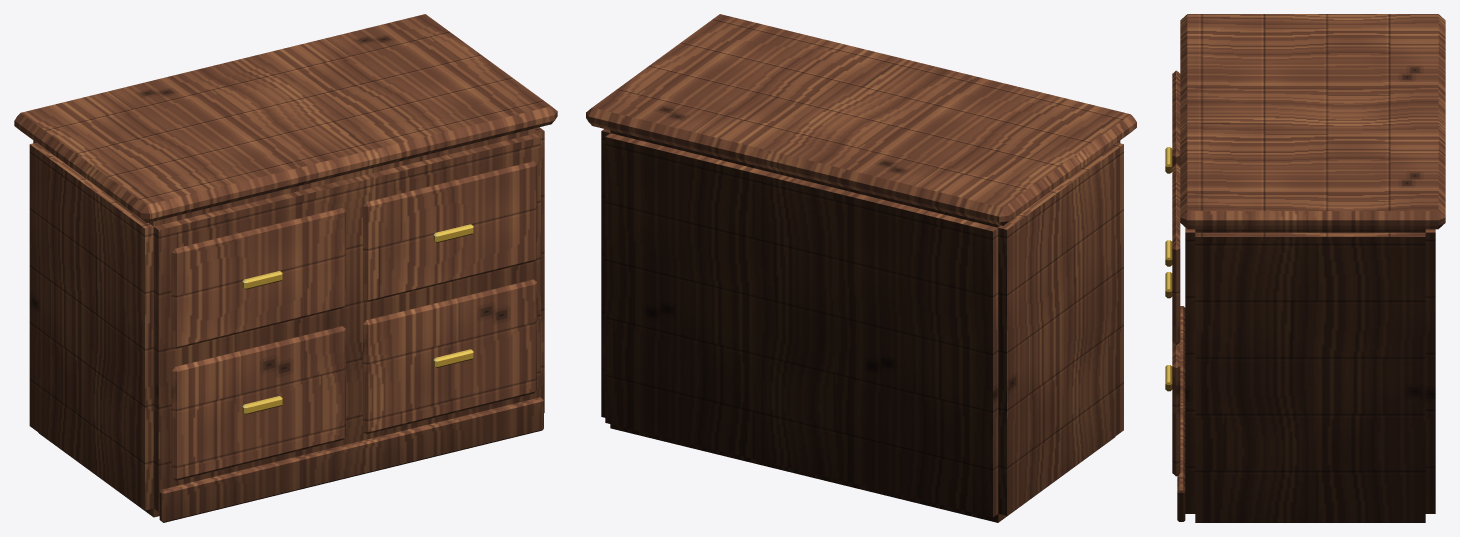
Rendered from cabinet_wood.glb.
The picture shows the model from 3 angles, left to right: view 1: azimuth 30°, elevation 25°; view 2: azimuth 150°, elevation 25°; view 3: azimuth 270°, elevation 25°; orthographic projection.
Parts seen in each view (by area): view 1: cabinet_wood; view 2: cabinet_wood; view 3: cabinet_wood.
Part boxes in pixels (box(x1,y1,x2,y2)): cabinet_wood: box(14, 14, 557, 522); cabinet_wood: box(586, 14, 1136, 522); cabinet_wood: box(1165, 14, 1445, 522).
Bounding box in the file's own units: 0.96 × 0.702 × 0.56.
Materials: 4 (4 with a texture image).
